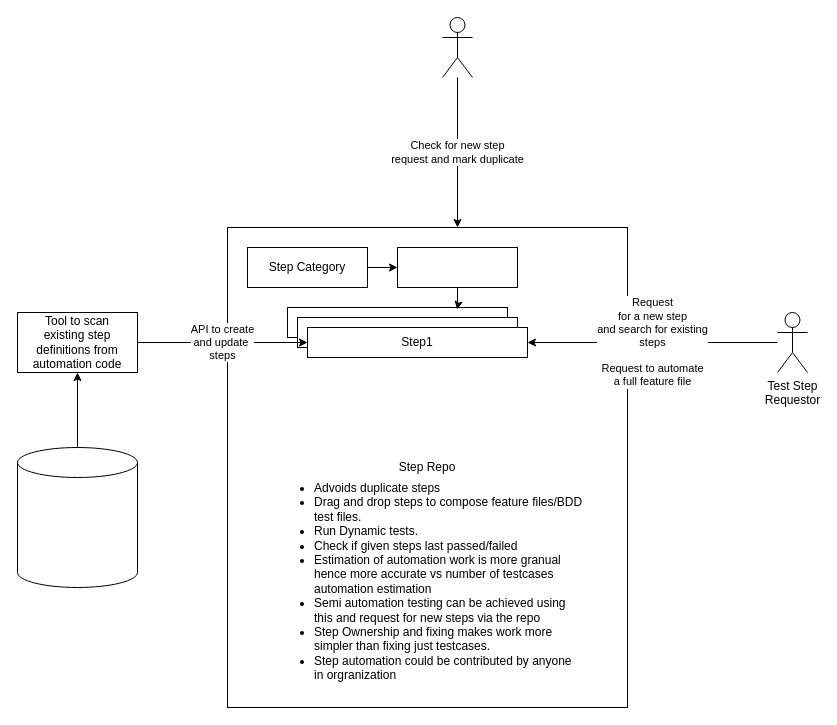
This 837x725 diagram has some shape labels left out. The centre of each missing label's shape, as x and y in pixels:
"BDD Code Repo (Behave/Cucumber)" goes at point (77, 517).
"Step Category Owner" goes at point (457, 47).
"Step Category(sub)" goes at point (457, 267).
